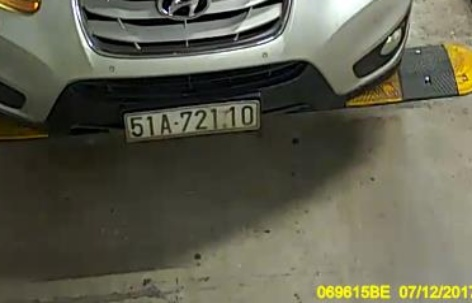plate: (114, 98, 273, 143)
